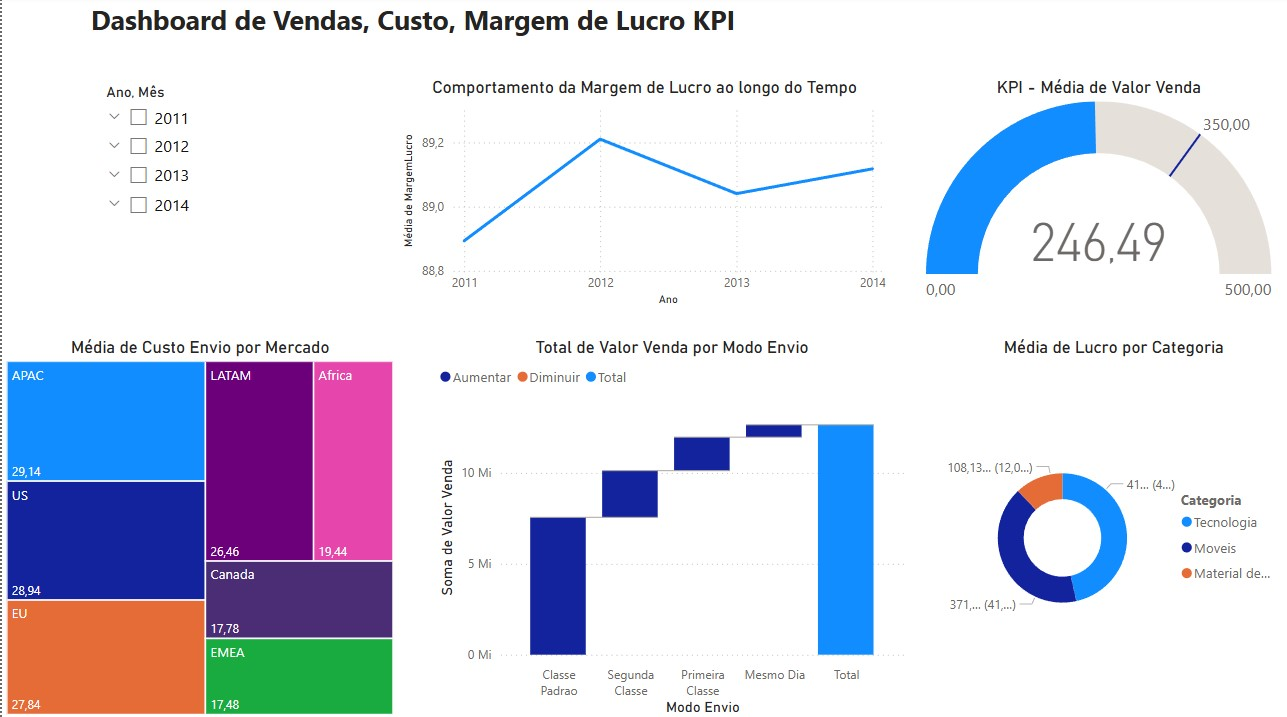

The page's visual inventory and layout, read from the dashboard file:
{"tool":"powerbi","page":{"name":"Página 1","canvas":[1280,720],"ordinal":0},"visuals":[{"type":"waterfallChart","title":"Total de Valor Venda por Modo Envio","fields":{"Category":["Pedidos.Modo Envio"],"Y":["Sum(Vendas.Valor Venda)"]},"box":[430.4,339.6,472.7,380.7],"z":0},{"type":"treemap","fields":{"Group":["Clientes.Mercado"],"Values":["Avg(Vendas.Custo Envio)"]},"box":[0,339.6,394.3,380.7],"z":1},{"type":"gauge","title":"KPI - Média de Valor Venda","fields":{"Y":["Avg(Vendas.Valor Venda)"]},"box":[903.1,80.9,376.9,232.6],"z":2},{"type":"slicer","fields":{"Values":["Pedidos.Data Pedido.Variation.Hierarquia de datas.Ano","Pedidos.Data Pedido.Variation.Hierarquia de datas.Mês"]},"box":[90.8,82.1,214,232.6],"z":3},{"type":"donutChart","fields":{"Category":["Produtos.Categoria"],"Y":["Avg(Vendas.Lucro)"]},"box":[933,339.6,347.1,380.7],"z":4},{"type":"lineChart","title":"Comportamento da Margem de Lucro ao longo do Tempo","fields":{"Category":["Pedidos.Data Pedido.Variation.Hierarquia de datas.Ano","Pedidos.Data Pedido.Variation.Hierarquia de datas.Trimestre","Pedidos.Data Pedido.Variation.Hierarquia de datas.Mês","Pedidos.Data Pedido.Variation.Hierarquia de datas.Dia"],"Y":["Avg(Vendas.MargemLucro)"]},"box":[394.3,80.9,490.1,232.6],"z":5},{"type":"textbox","box":[83.3,0,702.8,68.4],"z":6}]}

Visuals, with their boxes in screenshot pixels (x1, y1, x2, y2), scaled from the page's 1280x720 canvas onto the 1287x717 screenshot:
"Total de Valor Venda por Modo Envio" waterfallChart: pyautogui.locateOnScreen(433, 338, 908, 716)
treemap - Clientes.Mercado x Avg(Vendas.Custo Envio): pyautogui.locateOnScreen(0, 338, 396, 716)
"KPI - Média de Valor Venda" gauge: pyautogui.locateOnScreen(908, 81, 1286, 312)
slicer - Pedidos.Data Pedido.Variation.Hierarquia de datas.Ano x Pedidos.Data Pedido.Variation.Hierarquia de datas.Mês: pyautogui.locateOnScreen(91, 82, 306, 313)
donutChart - Produtos.Categoria x Avg(Vendas.Lucro): pyautogui.locateOnScreen(938, 338, 1286, 716)
"Comportamento da Margem de Lucro ao longo do Tempo" lineChart: pyautogui.locateOnScreen(396, 81, 889, 312)
textbox: pyautogui.locateOnScreen(84, 0, 790, 68)
